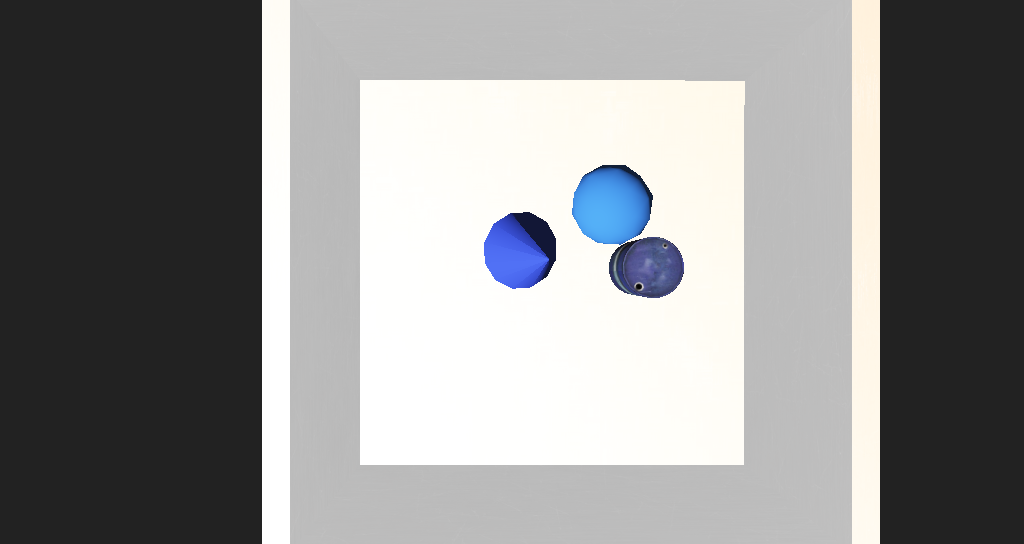cone: (556, 251, 603, 284)
cylinder: (438, 229, 532, 286)
sphere: (522, 212, 583, 255)
